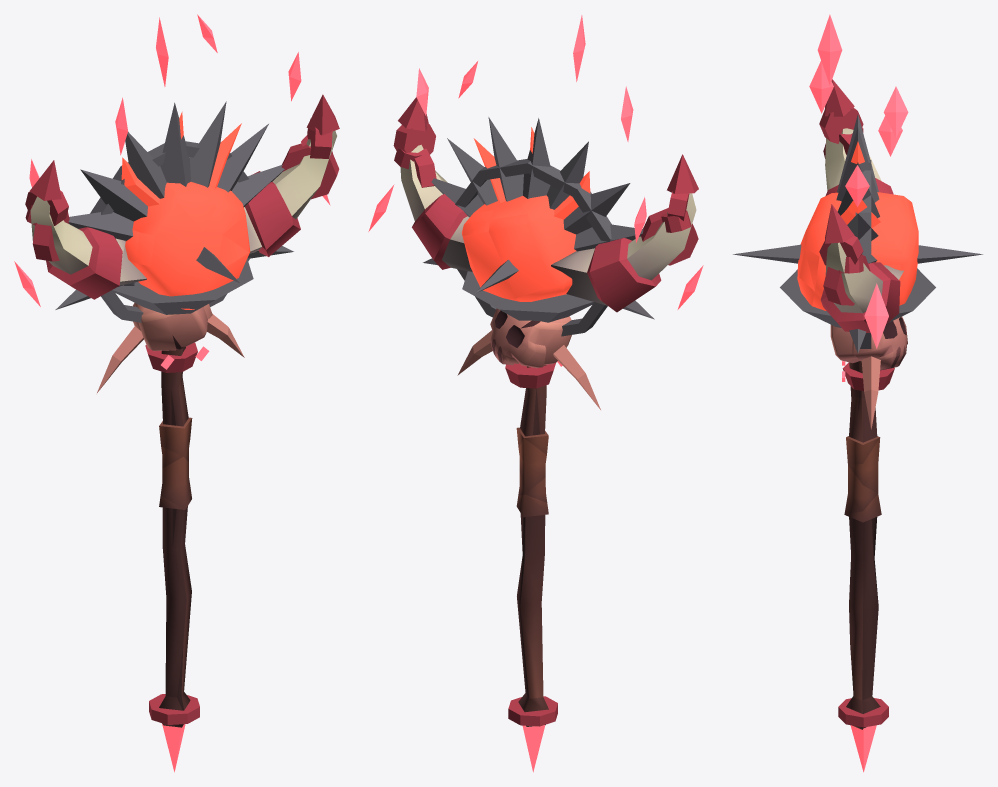
Rendered from staff_fire_mythic.glb.
3 views of the same model, side by side, from view 1: azimuth 30°, elevation 25°; view 2: azimuth 150°, elevation 25°; view 3: azimuth 270°, elevation 25° (orthographic). The views are drawn at different scales.
Parts seen in each view (by area): view 1: staff_orc_fire_mythic; view 2: staff_orc_fire_mythic; view 3: staff_orc_fire_mythic.
Boxes of the visible parts, x1,y1,x2,y2 form: staff_orc_fire_mythic: [14, 14, 339, 772]; staff_orc_fire_mythic: [368, 15, 703, 772]; staff_orc_fire_mythic: [733, 14, 982, 772].
Size of the model in its own units: 165 by 369 by 113.
7 materials, 3 textured.
